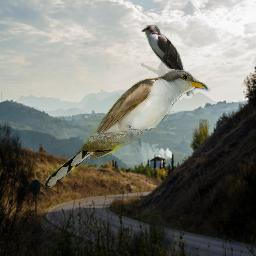Cuckoo: (41, 68, 212, 191), (141, 25, 195, 96)
